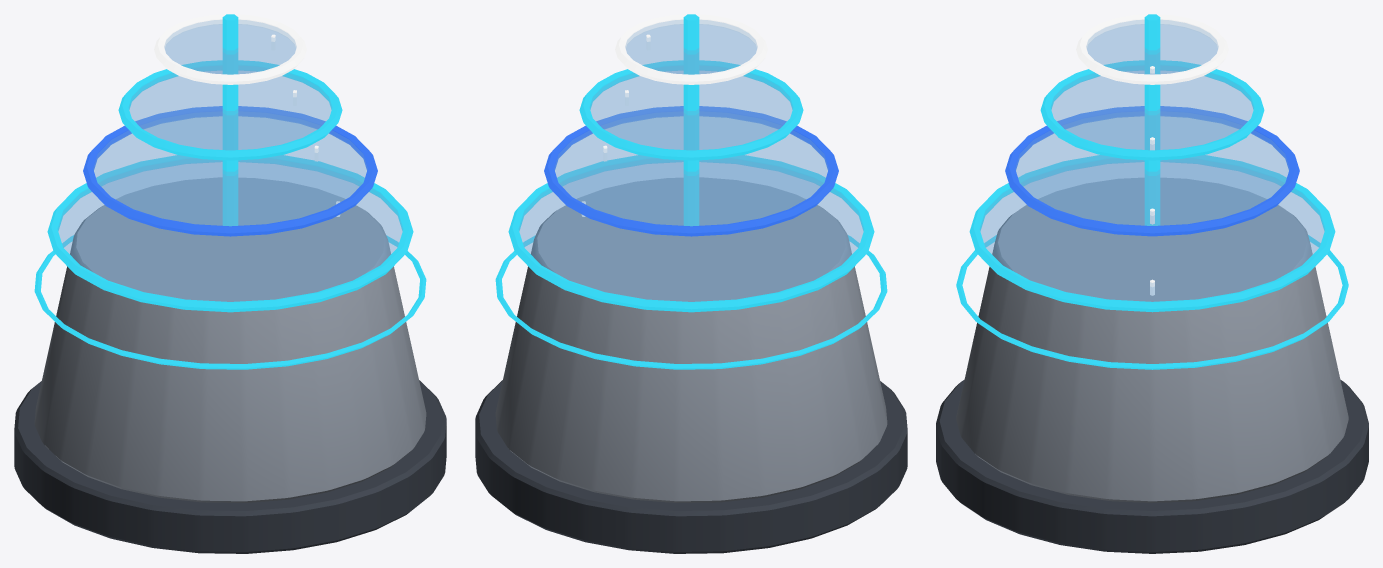
Rendered from holo_terrain_terrace.glb.
3 views of the same model, side by side, from view 1: azimuth 30°, elevation 25°; view 2: azimuth 150°, elevation 25°; view 3: azimuth 270°, elevation 25° (orthographic).
Visible parts, largest first — view 1: holo_terrain_terrace; view 2: holo_terrain_terrace; view 3: holo_terrain_terrace.
Boxes of the visible parts, x1,y1,x2,y2 form: holo_terrain_terrace: [14, 14, 446, 553]; holo_terrain_terrace: [475, 14, 907, 553]; holo_terrain_terrace: [936, 14, 1368, 553].
Bounding box in the file's own units: 1.1 × 1.25 × 1.1.
